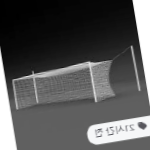goals: (12, 59, 117, 111)
